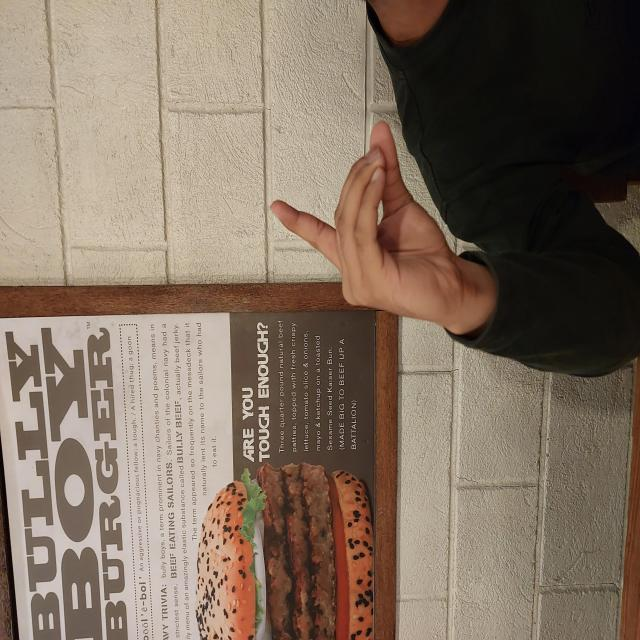D: (314, 268, 522, 467)
